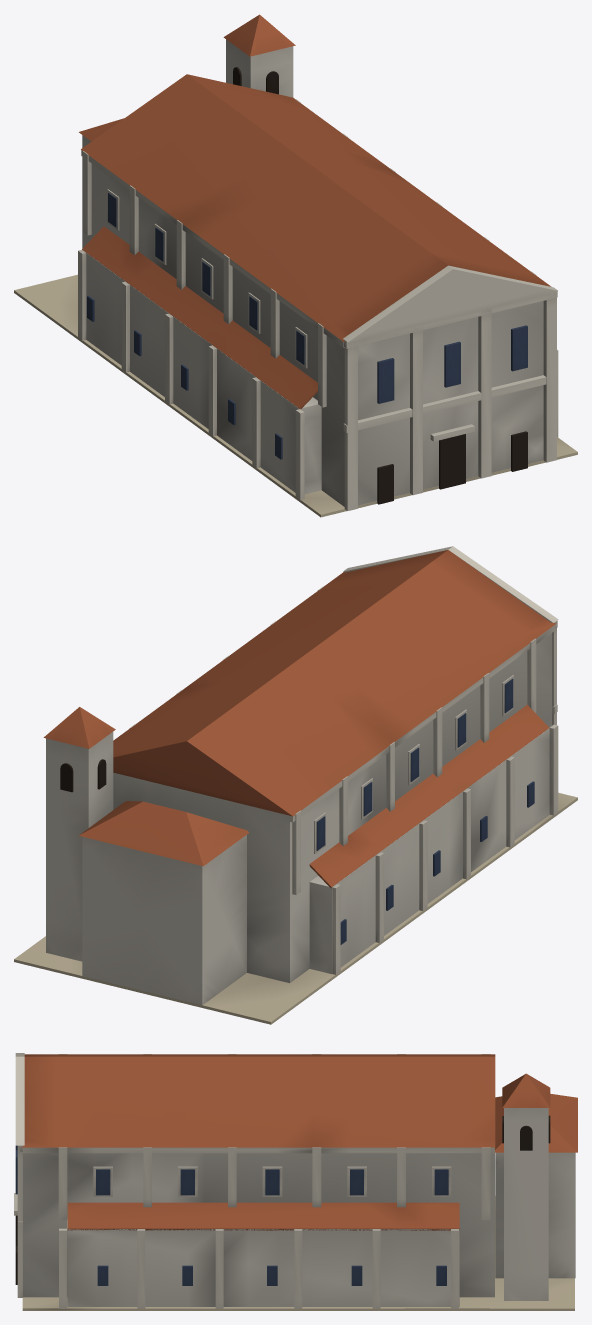
Rendered from sao-roque.glb.
The picture shows the model from 3 angles, top to bottom: view 1: azimuth 30°, elevation 25°; view 2: azimuth 150°, elevation 25°; view 3: azimuth 270°, elevation 25°; orthographic projection. The views are drawn at different scales.
Visible parts, largest first — view 1: p1_nave, p2_front, p0_ground; view 2: p1_nave, p2_front, p0_ground; view 3: p1_nave, p2_front, p0_ground.
Part boxes in pixels (left/top/right/bottom): p1_nave: left=78, top=74, right=558, bottom=506; p2_front: left=223, top=14, right=557, bottom=510; p0_ground: left=14, top=274, right=577, bottom=517; p1_nave: left=78, top=550, right=558, bottom=1005; p2_front: left=43, top=546, right=558, bottom=961; p0_ground: left=14, top=792, right=577, bottom=1024; p1_nave: left=20, top=1054, right=577, bottom=1308; p2_front: left=14, top=1053, right=550, bottom=1300; p0_ground: left=22, top=1196, right=574, bottom=1310.
Bounding box in the file's own units: 30.1 × 27.3 × 63.3.
